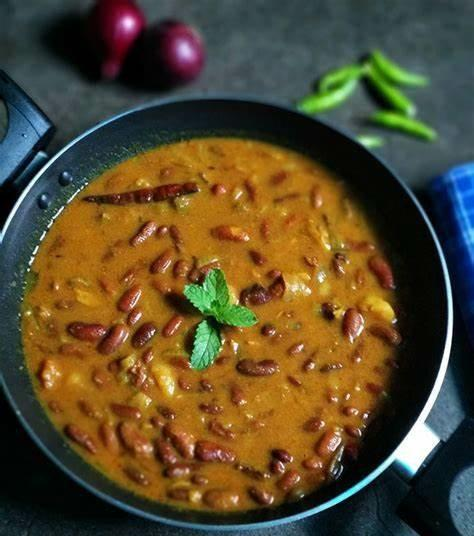RajmaCurry: (22, 145, 425, 510)
